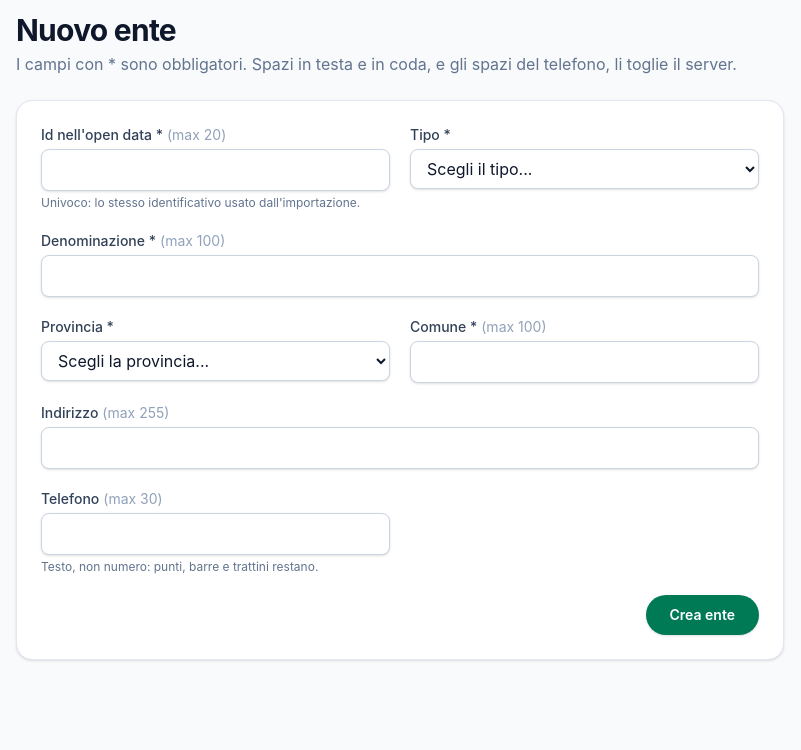
it: NuovoEntePage › dopo il primo invio gli errori si aggiornano mentre si scrive
Click the button with test id "salva-ente" at (702, 615), box 646,595 -> 759,635
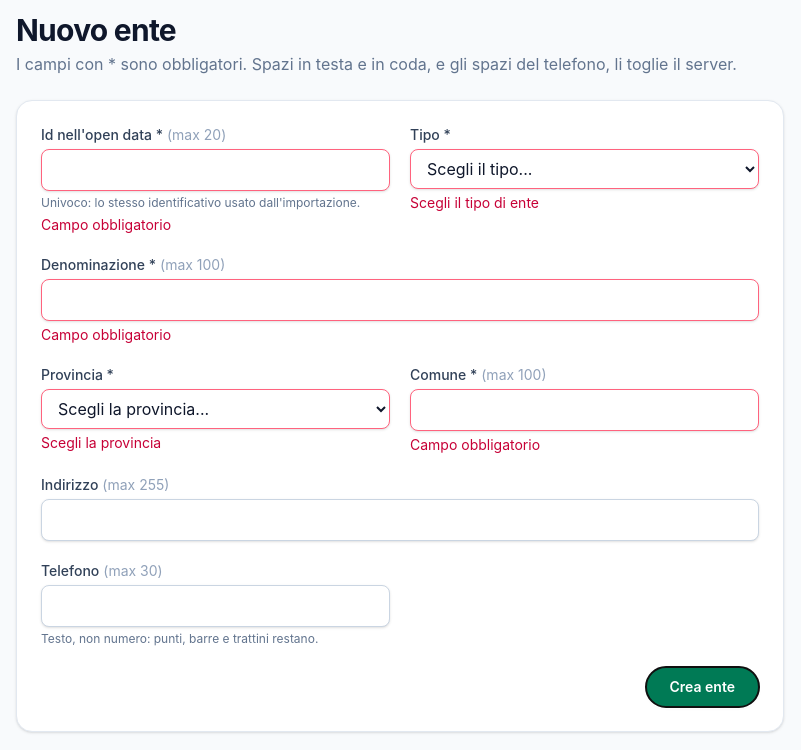
Result: the text with test id "errore-comune" is shown at 410,436 -> 540,453
Type "Lecce" into the field with test id "campo-comune" at (584, 410), box 410,389 -> 759,431
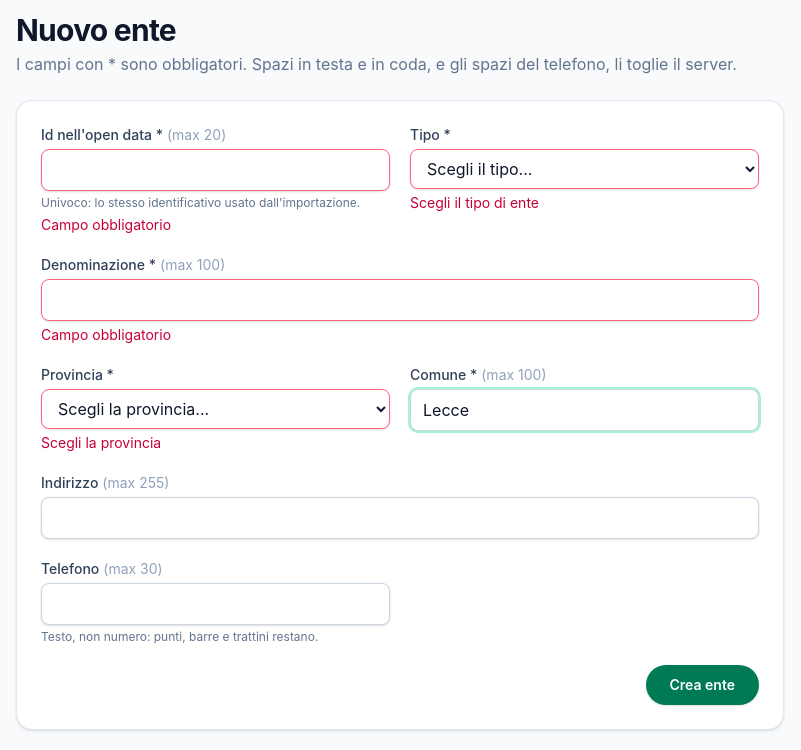
Result: the text with test id "errore-comune" is gone
